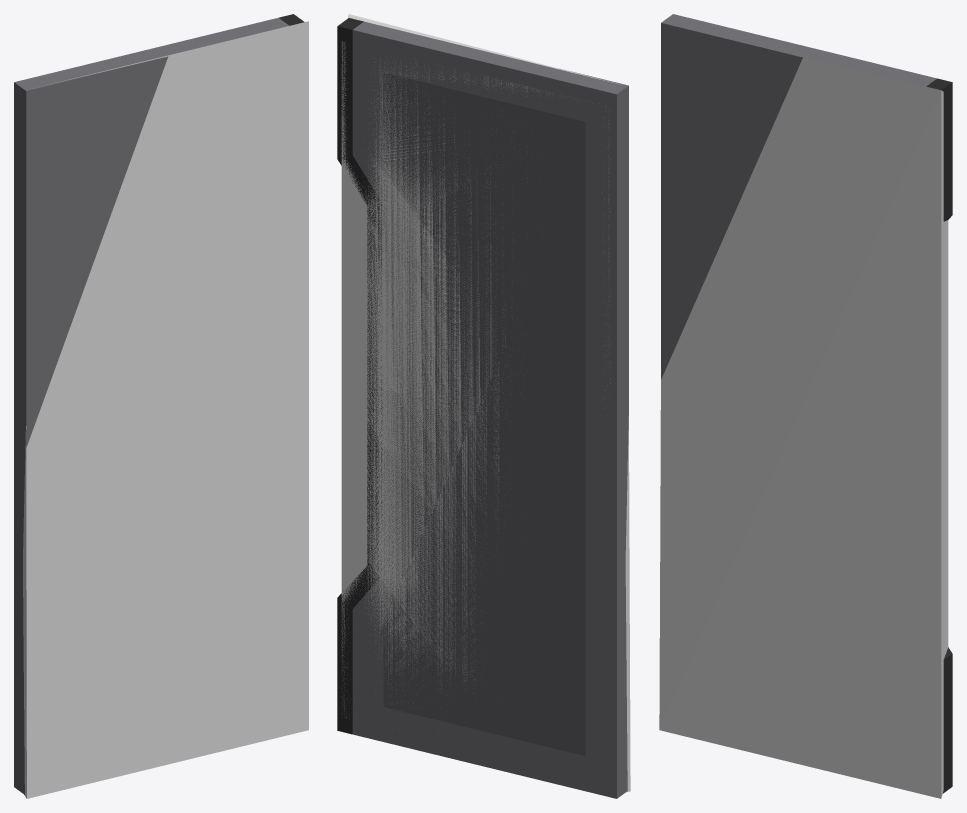
Rendered from SM_Bld_Lift_Wall_Door_02.fbx.
The picture shows the model from 3 angles, left to right: view 1: azimuth 30°, elevation 25°; view 2: azimuth 150°, elevation 25°; view 3: azimuth 330°, elevation 25°; orthographic projection.
Visible parts, largest first — view 1: SM_Bld_Lift_Wall_Door_02_ConvexHulls, SM_Bld_Lift_Wall_Door_02_LOD0; view 2: SM_Bld_Lift_Wall_Door_02_LOD0, SM_Bld_Lift_Wall_Door_02_ConvexHulls; view 3: SM_Bld_Lift_Wall_Door_02_ConvexHulls, SM_Bld_Lift_Wall_Door_02_LOD0.
Part boxes in pixels (x1=…): SM_Bld_Lift_Wall_Door_02_ConvexHulls: x1=23, y1=21, x2=308, y2=798; SM_Bld_Lift_Wall_Door_02_LOD0: x1=14, y1=14, x2=304, y2=794; SM_Bld_Lift_Wall_Door_02_LOD0: x1=337, y1=18, x2=628, y2=798; SM_Bld_Lift_Wall_Door_02_ConvexHulls: x1=341, y1=14, x2=630, y2=792; SM_Bld_Lift_Wall_Door_02_ConvexHulls: x1=659, y1=27, x2=948, y2=798; SM_Bld_Lift_Wall_Door_02_LOD0: x1=661, y1=14, x2=952, y2=793.
Size of the model in its own units: 8.03 by 98.54 by 237.
1 material, 1 textured.
